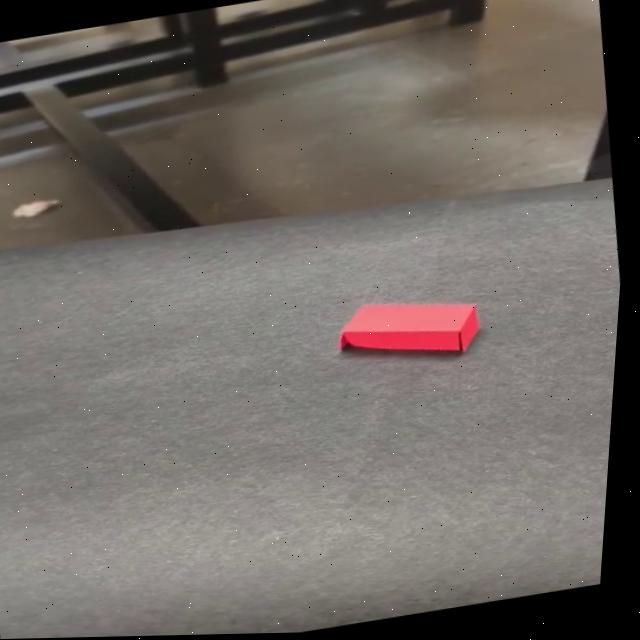red block: (332, 284, 487, 371)
